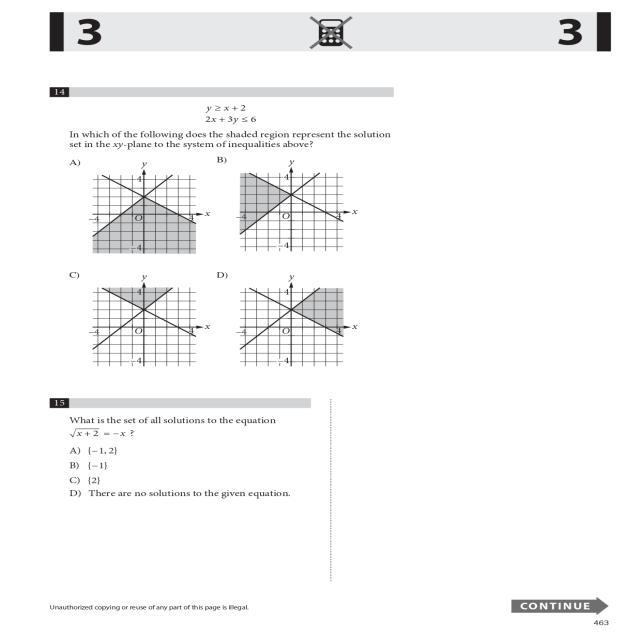Answer_Block: (34, 152, 396, 376), (34, 444, 396, 592)
Question_Answer_Block: (34, 76, 396, 376), (34, 394, 396, 592)
Question_Block: (34, 76, 396, 152), (34, 394, 396, 442)
Question_Paper_Area: (34, 76, 396, 592)
